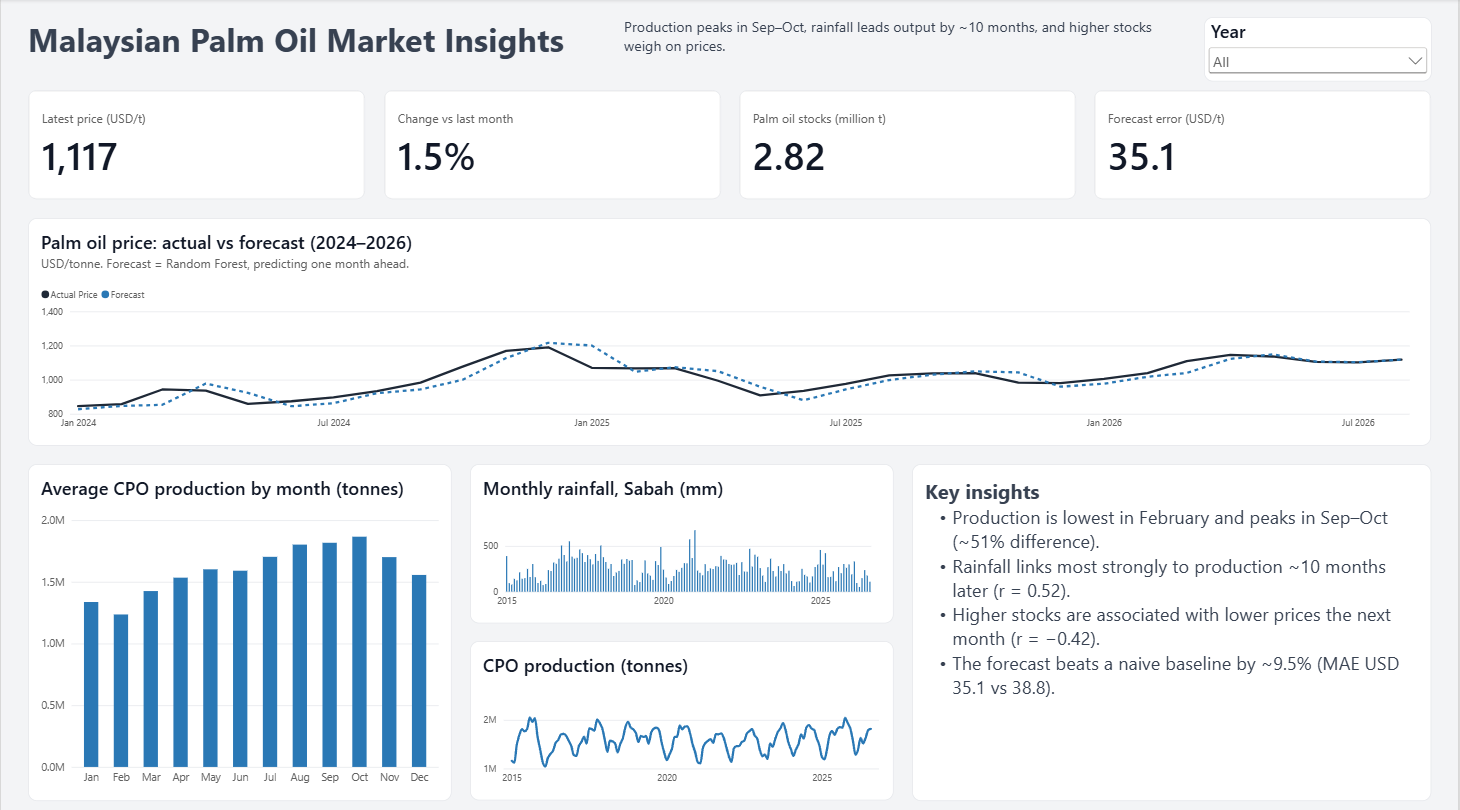

This screenshot's page, from the dashboard's own definition file:
{"tool":"powerbi","page":{"name":"Overview","canvas":[1920,1080],"ordinal":0},"visuals":[{"type":"textbox","box":[36,24,760,72.6],"z":0},{"type":"slicer","fields":{"Values":["palm_oil_monthly.Year"]},"box":[1584,24,300,84.7],"z":1000},{"type":"cardVisual","fields":{"Data":["palm_oil_monthly.Latest Price"]},"box":[36,120,444,144],"z":2000},{"type":"cardVisual","fields":{"Data":["palm_oil_monthly.Price Change %"]},"box":[504,120,444,144],"z":3000},{"type":"cardVisual","fields":{"Data":["palm_oil_monthly.Latest Stocks (Mt)"]},"box":[972,120,444,144],"z":4000},{"type":"cardVisual","fields":{"Data":["forecast.Forecast MAE"]},"box":[1440,120,444,144],"z":5000},{"type":"lineChart","title":"Palm oil price: actual vs forecast (2024–2026)","fields":{"Category":["forecast.date"],"Y":["Sum(forecast.price_usd)","Sum(forecast.pred_forest)"]},"box":[36,288,1848,300],"z":6000},{"type":"clusteredColumnChart","title":"Average CPO production by month (tonnes)","fields":{"Category":["palm_oil_monthly.Month"],"Y":["Avg(palm_oil_monthly.production_t)"]},"box":[36,612,558,444],"z":7000},{"type":"clusteredColumnChart","title":"Monthly rainfall, Sabah (mm)","fields":{"Category":["palm_oil_monthly.date"],"Y":["Sum(palm_oil_monthly.rain_mm)"]},"box":[618,612,558,210],"z":8000},{"type":"lineChart","title":"CPO production (tonnes)","fields":{"Category":["palm_oil_monthly.date"],"Y":["Sum(palm_oil_monthly.production_t)"]},"box":[618,846,558,210],"z":9000},{"type":"textbox","box":[1199.9,612.4,683.6,443.9],"z":10000},{"type":"textbox","box":[820,24,740,72],"z":10001}]}

Visuals, with their boxes in screenshot pixels (x1, y1, x2, y2), scaled from the page's 1920x1080 canvas onto the 1460x810 screenshot:
textbox: locate(27, 18, 605, 72)
slicer - palm_oil_monthly.Year: locate(1204, 18, 1433, 82)
cardVisual - palm_oil_monthly.Latest Price: locate(27, 90, 365, 198)
cardVisual - palm_oil_monthly.Price Change %: locate(383, 90, 721, 198)
cardVisual - palm_oil_monthly.Latest Stocks (Mt): locate(739, 90, 1077, 198)
cardVisual - forecast.Forecast MAE: locate(1095, 90, 1433, 198)
"Palm oil price: actual vs forecast (2024–2026)" lineChart: locate(27, 216, 1433, 441)
"Average CPO production by month (tonnes)" clusteredColumnChart: locate(27, 459, 452, 792)
"Monthly rainfall, Sabah (mm)" clusteredColumnChart: locate(470, 459, 894, 616)
"CPO production (tonnes)" lineChart: locate(470, 634, 894, 792)
textbox: locate(912, 459, 1432, 792)
textbox: locate(624, 18, 1186, 72)
